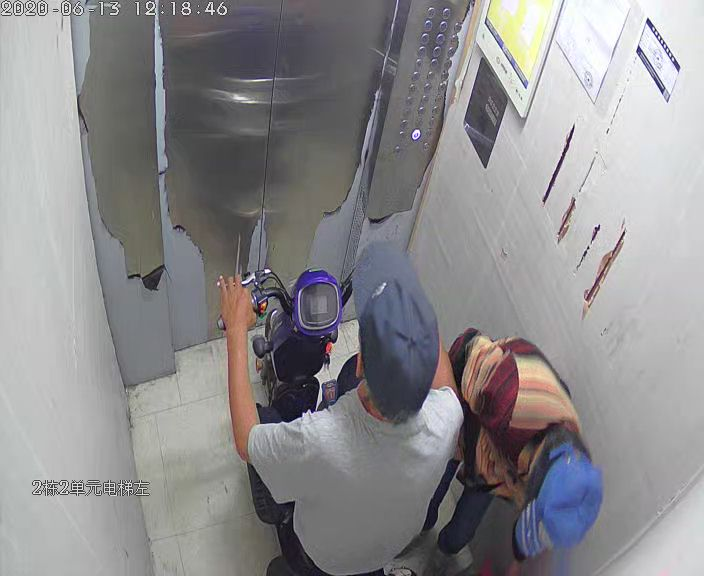Electric-bicycle: (218, 262, 365, 575)
